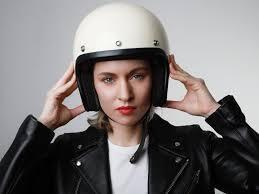helmet: (72, 1, 172, 127)
